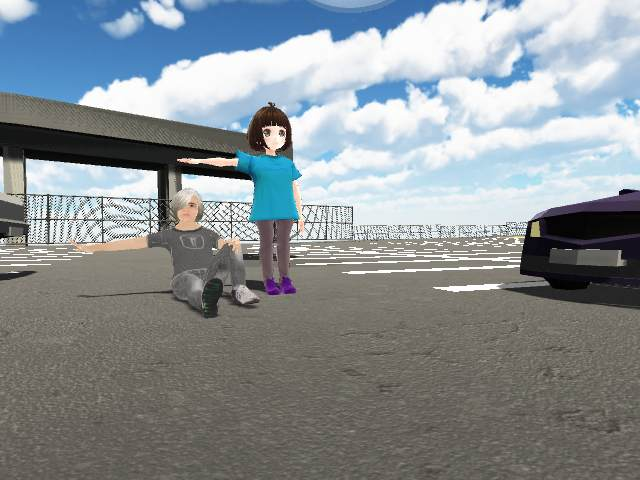doubleP_left: (64, 100, 307, 319)
